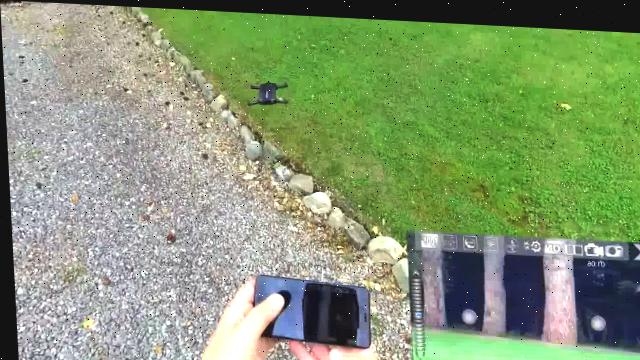drone: (234, 56, 294, 123)
